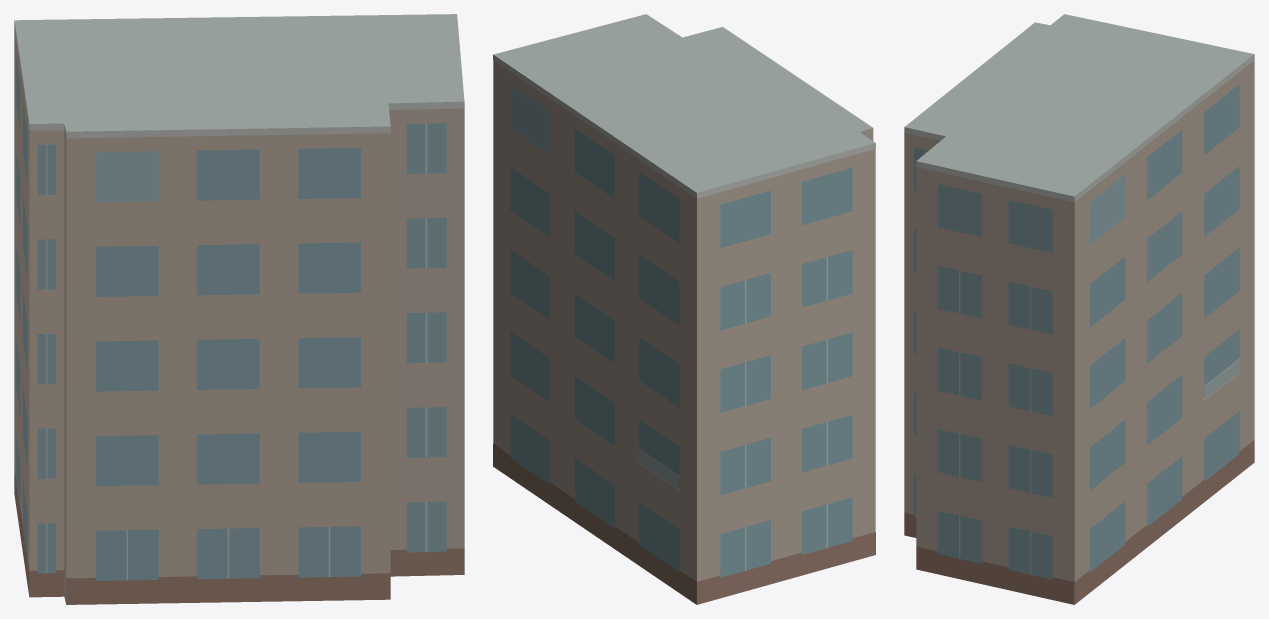
File: survey-upis-32888848.glb
3 views of the same model, side by side, from view 1: azimuth 30°, elevation 25°; view 2: azimuth 150°, elevation 25°; view 3: azimuth 270°, elevation 25° (orthographic). The views are drawn at different scales.
Parts seen in each view (by area): view 1: survey-upis-32888848.tmp; view 2: survey-upis-32888848.tmp; view 3: survey-upis-32888848.tmp.
Part boxes in pixels (x1=…): survey-upis-32888848.tmp: x1=14, y1=14, x2=464, y2=604; survey-upis-32888848.tmp: x1=493, y1=14, x2=875, y2=604; survey-upis-32888848.tmp: x1=904, y1=14, x2=1254, y2=604.
Bounding box in the file's own units: 16.5 × 17.2 × 13.38.
